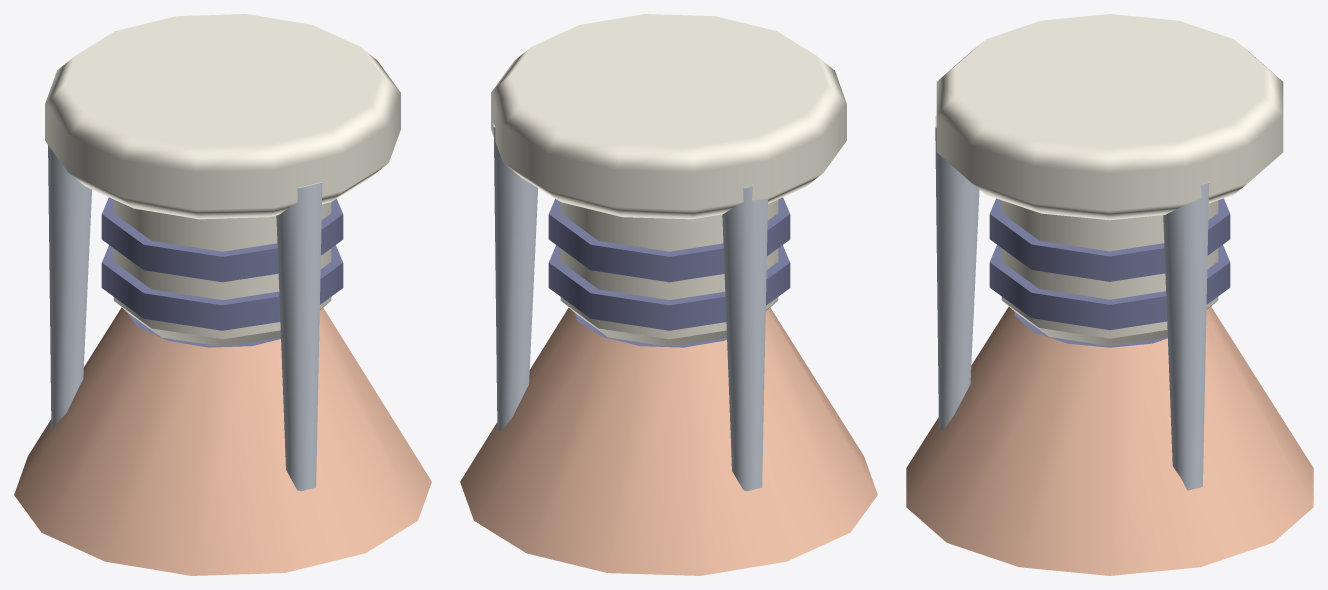
Rendered from R4X_JumpDrive_LOD1.fbx.
3 renders of one model, left to right at view 1: azimuth 30°, elevation 25°; view 2: azimuth 150°, elevation 25°; view 3: azimuth 270°, elevation 25°, orthographic.
Parts seen in each view (by area): view 1: R4X_JumpDrive_LOD1; view 2: R4X_JumpDrive_LOD1; view 3: R4X_JumpDrive_LOD1.
Boxes of the visible parts, x1=… form: R4X_JumpDrive_LOD1: x1=14, y1=14, x2=431, y2=575; R4X_JumpDrive_LOD1: x1=460, y1=14, x2=877, y2=575; R4X_JumpDrive_LOD1: x1=906, y1=14, x2=1313, y2=575.
Size of the model in its own units: 0.47 by 0.51 by 0.4582.
